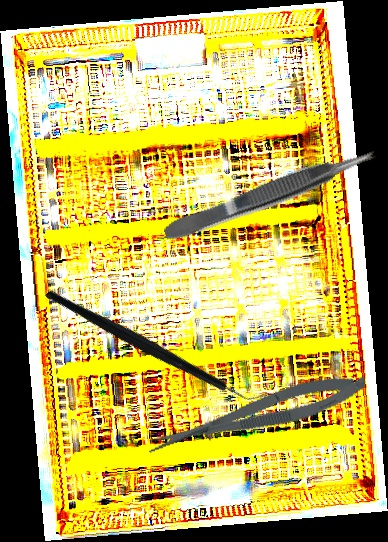Chopper: (45, 229, 269, 462)
Micro Scissor: (142, 366, 371, 460)
Tissue Forceps: (159, 142, 381, 246)
